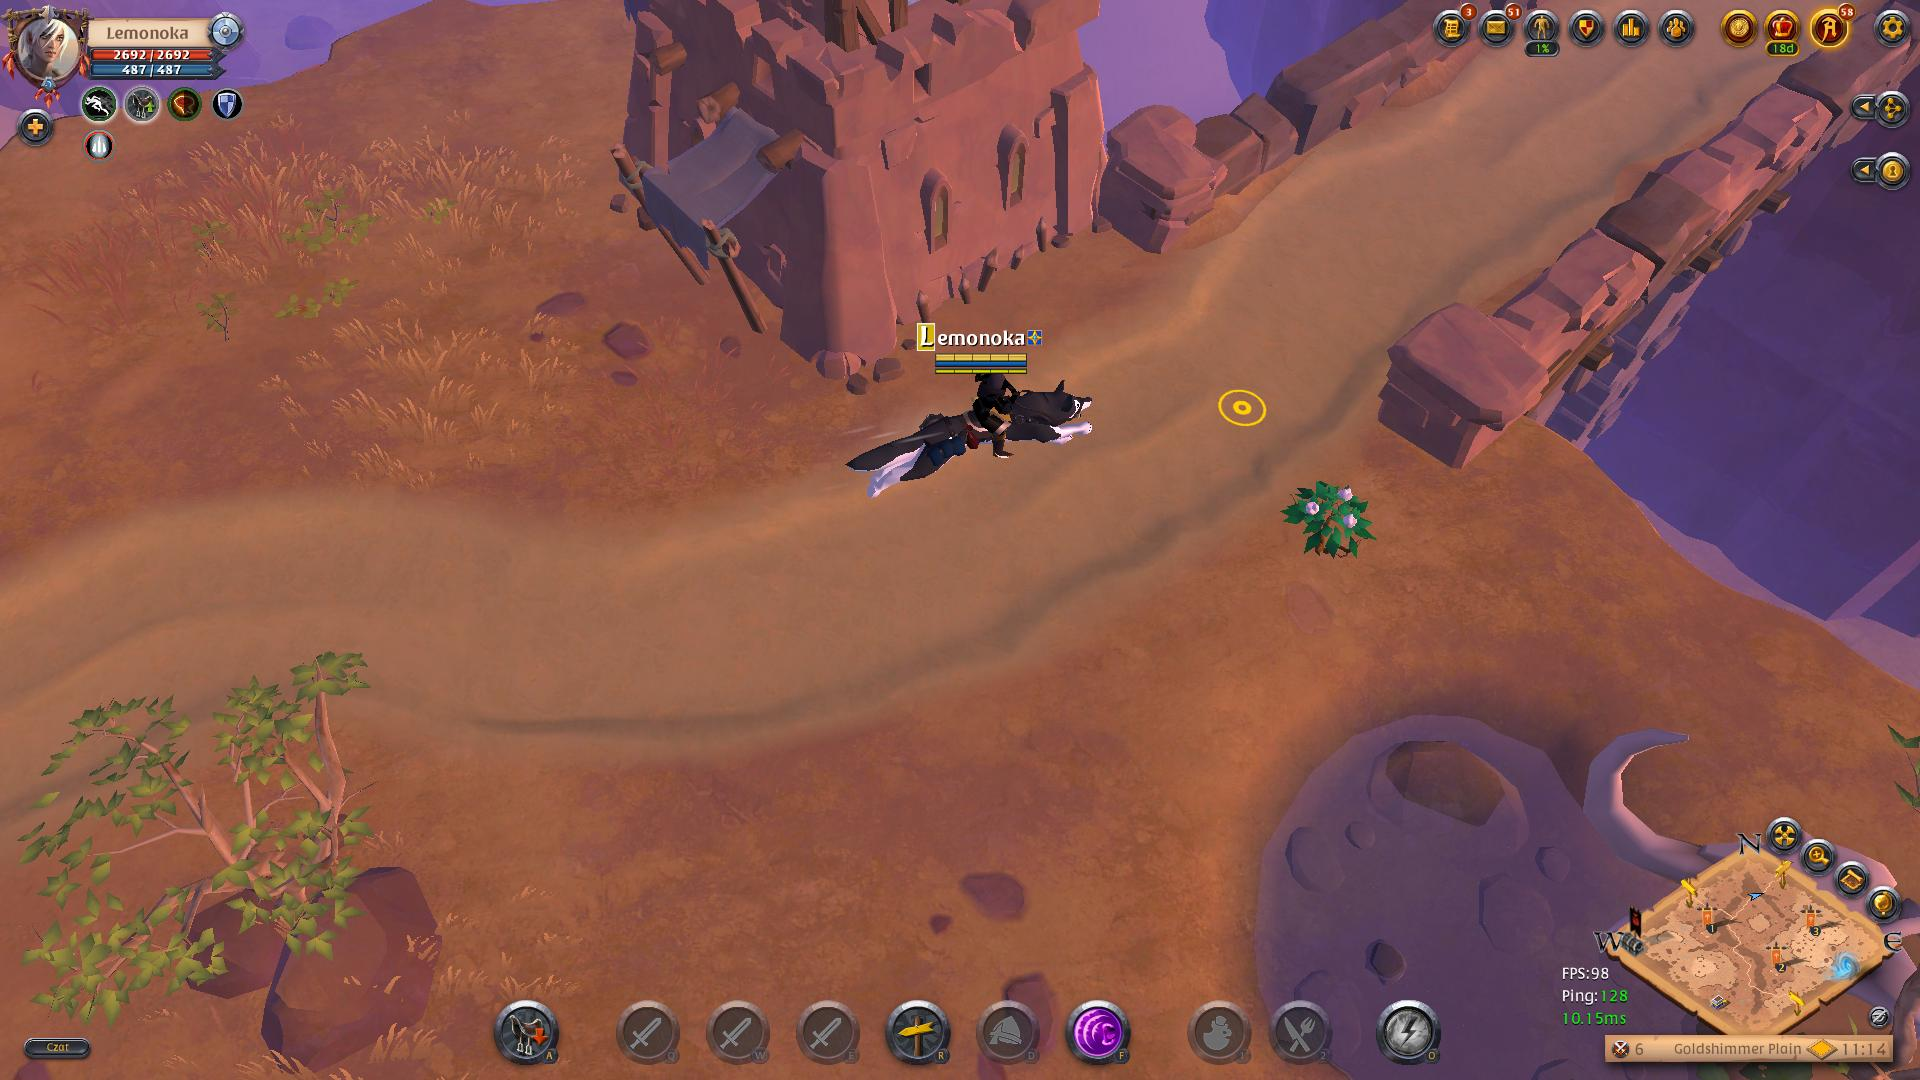fiber tier 3: (1280, 476, 1377, 567)
